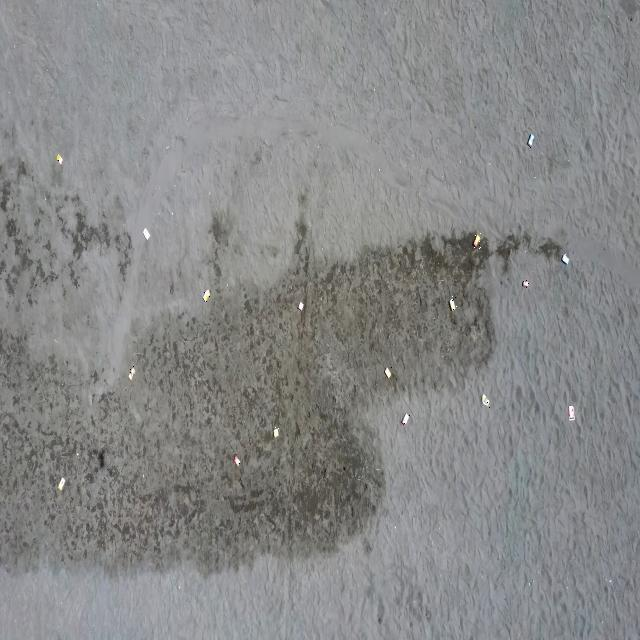retort-pouch: (481, 392, 491, 408), (568, 404, 576, 422), (473, 233, 481, 251), (58, 474, 66, 492), (202, 288, 211, 304), (401, 412, 410, 428), (384, 365, 392, 382), (449, 296, 457, 313), (527, 132, 535, 149), (561, 252, 570, 267), (128, 366, 136, 382), (142, 227, 151, 241), (56, 152, 64, 166), (272, 426, 280, 439), (234, 454, 241, 468), (522, 278, 530, 289), (298, 300, 304, 314)
